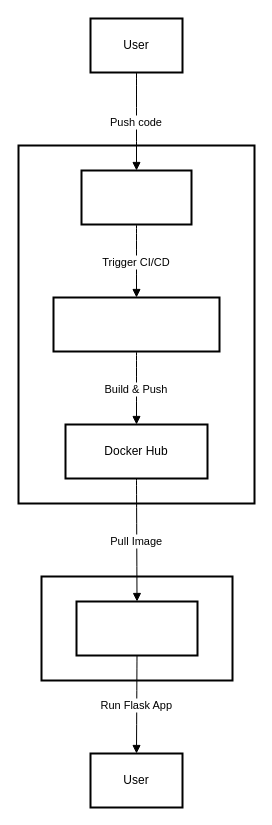
Image size: 272x825. Some labels were removed from this diagram. The centre of each missing label's shape, as x and y in pixels:
AWS EC2: the point at 136,628
GitHub: the point at 136,197
GitHub Actions: the point at 136,324
